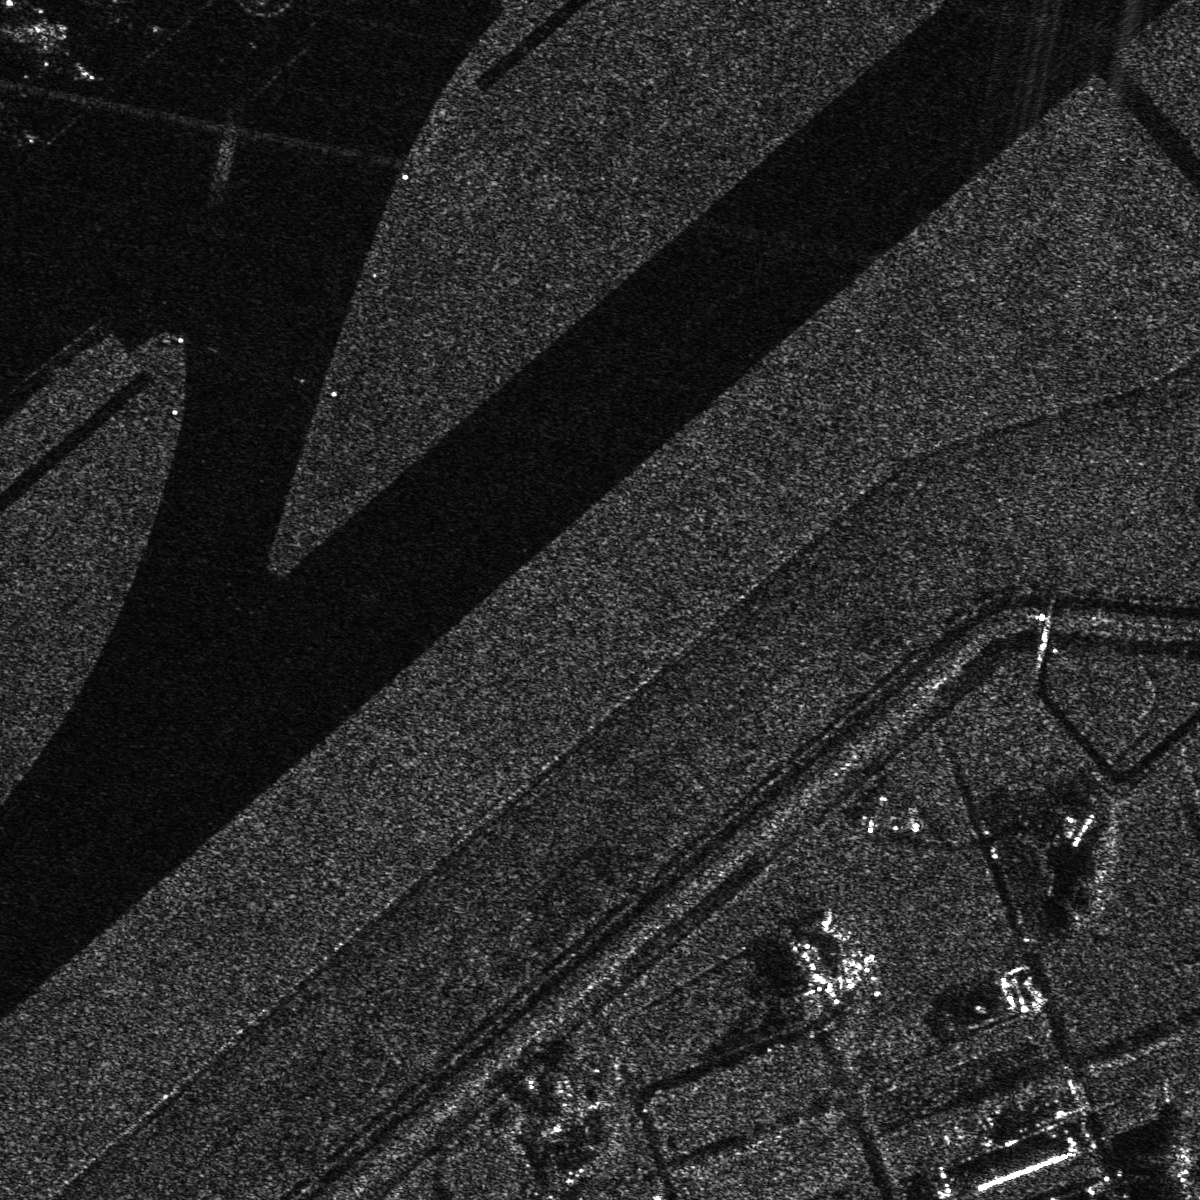Boeing737: (16, 13, 105, 90)
